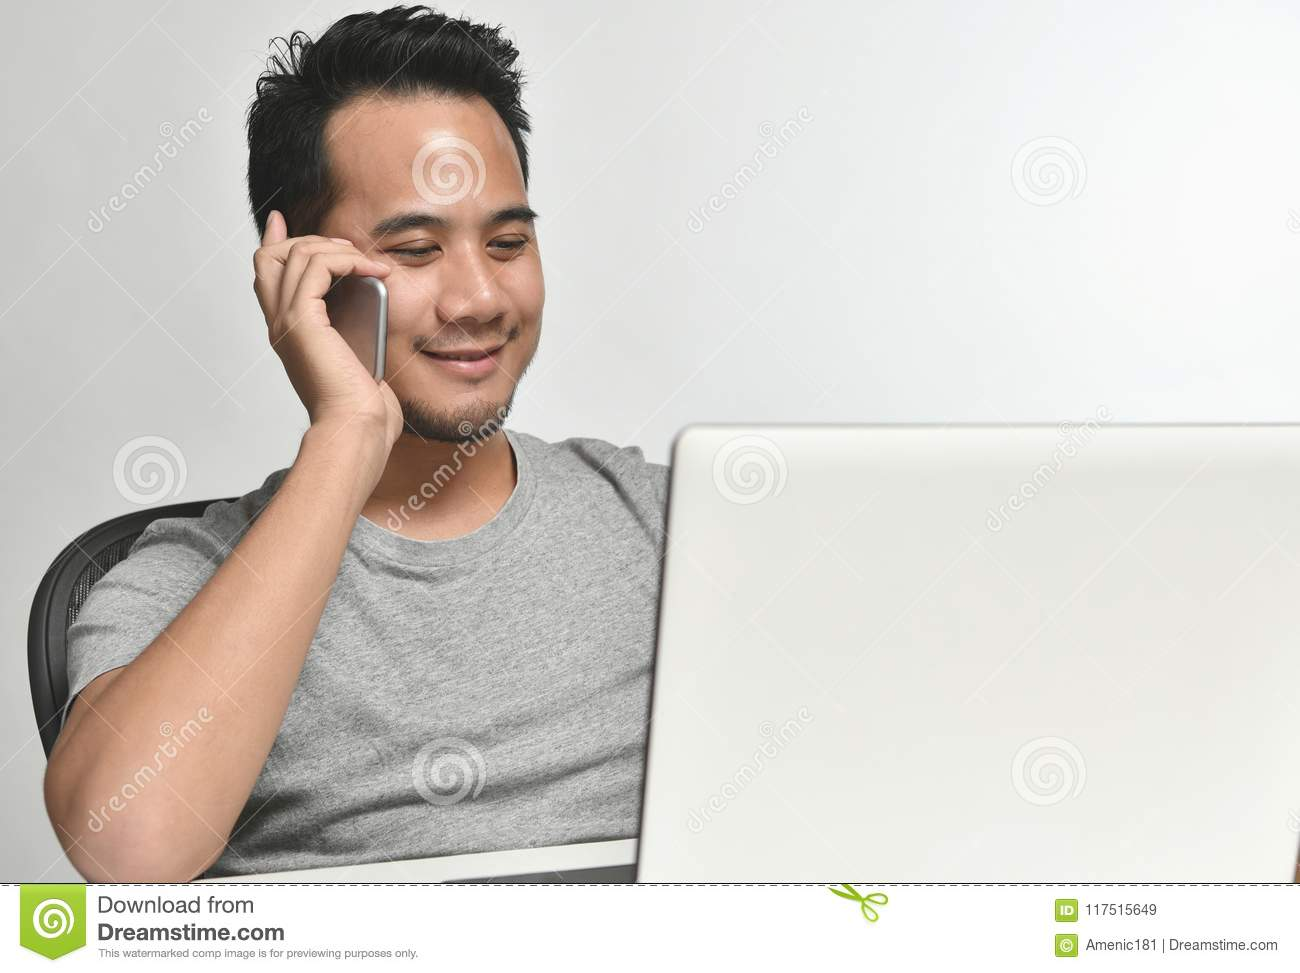phone: (263, 238, 397, 393)
talk: (252, 175, 546, 473)
